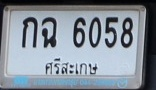txt01: (20, 16, 39, 49)
txt07: (40, 16, 59, 49)
